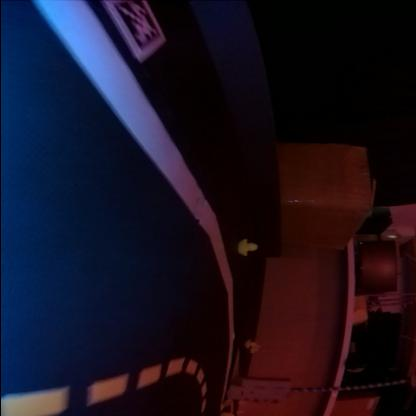Duckie: (238, 240, 257, 257), (244, 340, 256, 348)
QR code: (104, 6, 166, 61)
